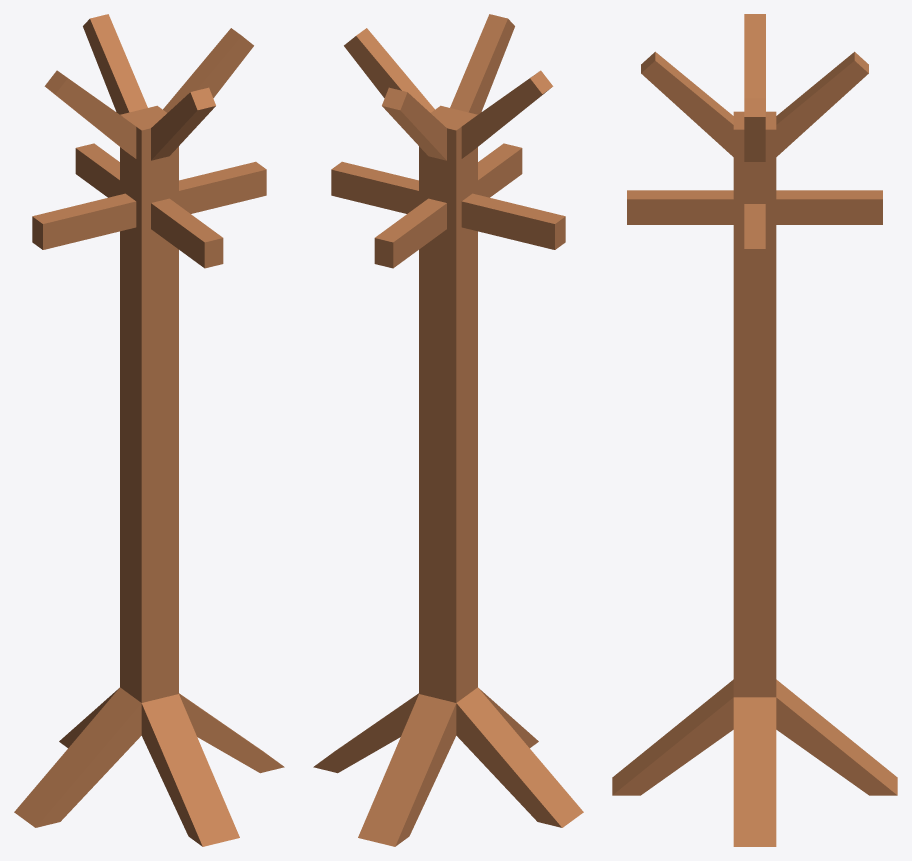
File: furn_coatRackStanding.glb
3 views of the same model, side by side, from view 1: azimuth 30°, elevation 25°; view 2: azimuth 150°, elevation 25°; view 3: azimuth 270°, elevation 25° (orthographic).
Parts seen in each view (by area): view 1: coatRackStanding(Clone); view 2: coatRackStanding(Clone); view 3: coatRackStanding(Clone).
Part boxes in pixels (x1,y1,x2,y2): coatRackStanding(Clone): (14,14,284,846); coatRackStanding(Clone): (313,14,583,846); coatRackStanding(Clone): (612,14,897,846).
Size of the model in its own units: 0.2728 by 0.77 by 0.2728.
